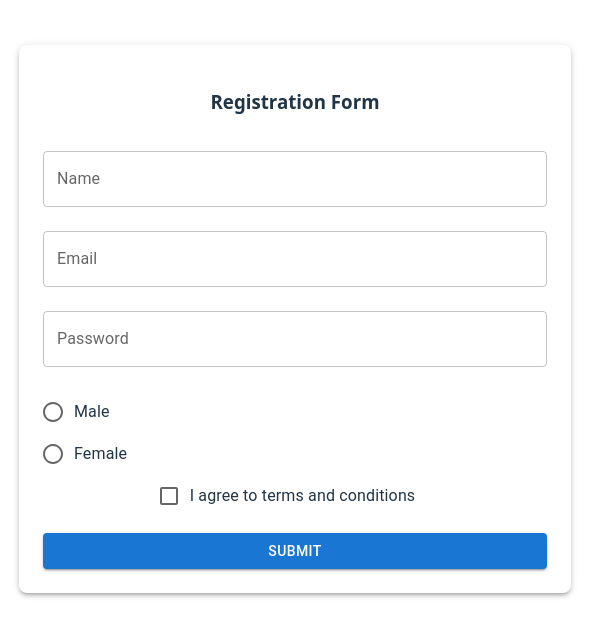
Test: Registration Form Component › SHOWS ERROR when fields are empty
Click the button "Submit" at (295, 551), box 43,532 -> 547,569
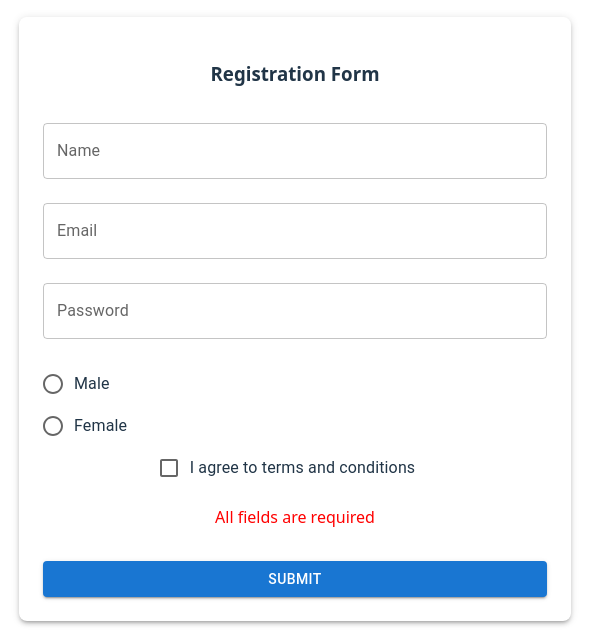
expect the text "All fields are required" is shown: met, box 215,506 -> 375,528
